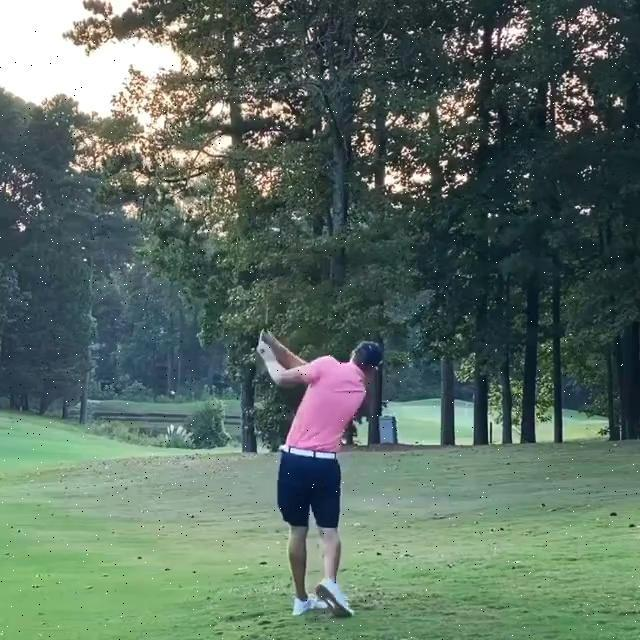ClubHandle: (259, 302, 272, 337)
